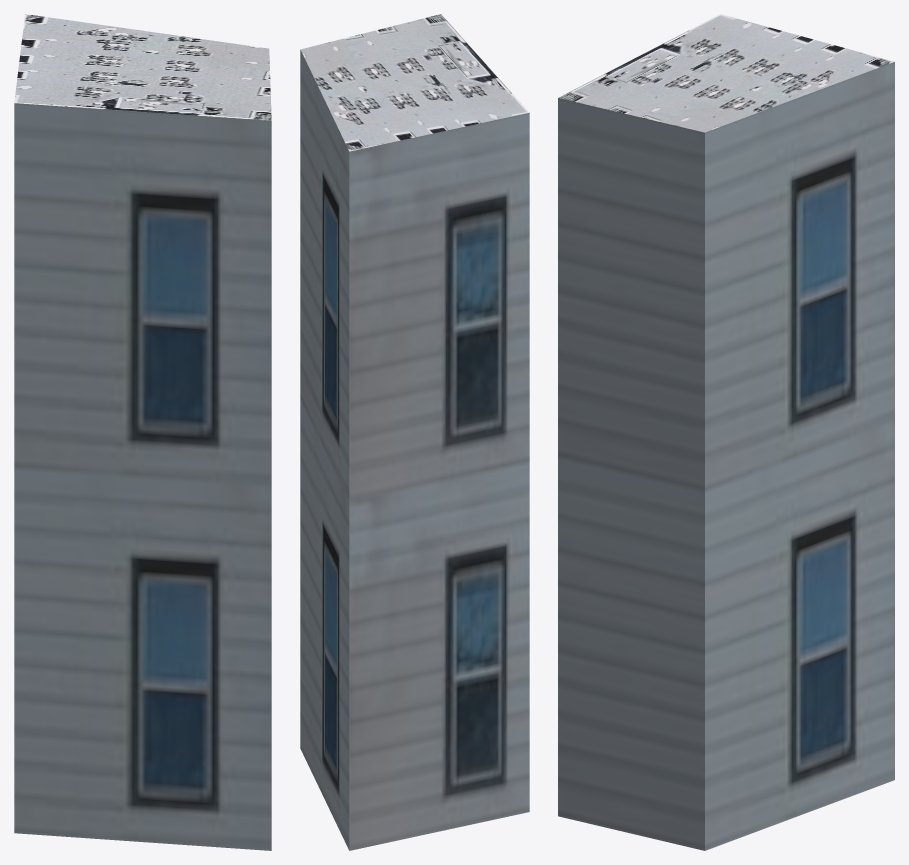
Rendered from ResTex__2381.fbx.
3 views of the same model, side by side, from view 1: azimuth 30°, elevation 25°; view 2: azimuth 150°, elevation 25°; view 3: azimuth 270°, elevation 25° (orthographic). The views are drawn at different scales.
Visible parts, largest first — view 1: CityEngineMaterial_18_m, CityEngineMaterial_2_m; view 2: CityEngineMaterial_18_m, CityEngineMaterial_2_m; view 3: CityEngineMaterial_18_m, CityEngineMaterial_2_m.
Part boxes in pixels (x1,y1,x2,y2): CityEngineMaterial_18_m: (14,103,271,850); CityEngineMaterial_2_m: (14,14,271,120); CityEngineMaterial_18_m: (300,50,529,850); CityEngineMaterial_2_m: (300,14,528,151); CityEngineMaterial_18_m: (558,62,894,850); CityEngineMaterial_2_m: (558,14,894,132).
Size of the model in its own units: 2.12 by 6 by 2.55.
2 materials, 2 textured.
